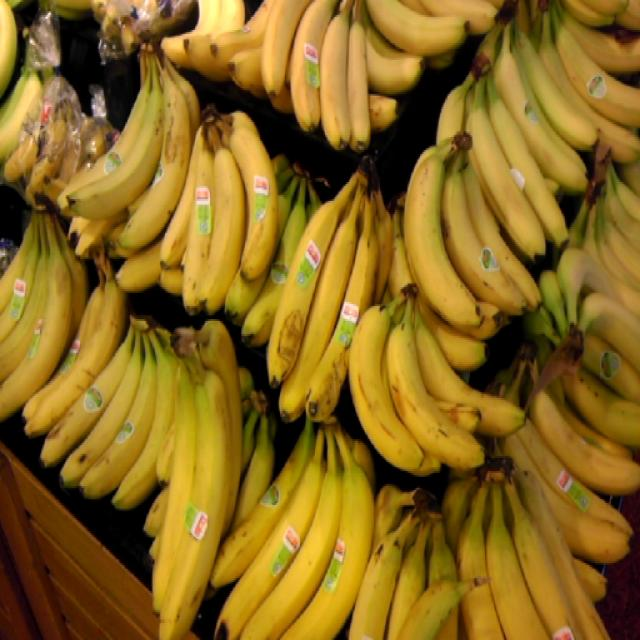banana: (52, 35, 290, 321), (503, 236, 640, 569), (430, 0, 610, 250), (205, 399, 377, 637), (26, 249, 178, 515), (345, 274, 533, 489), (264, 156, 404, 436), (143, 309, 252, 640), (395, 116, 549, 344), (0, 182, 87, 435)
